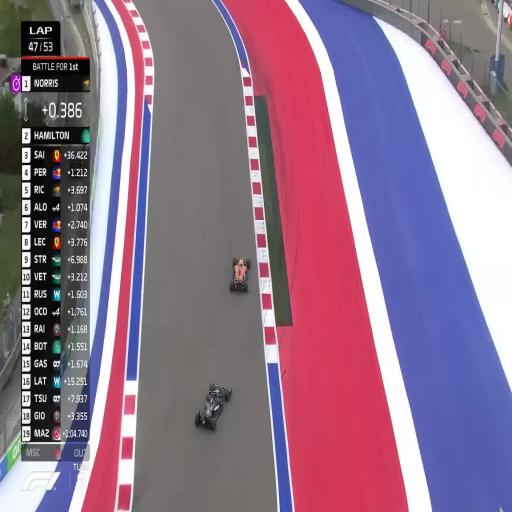f1_car: (195, 383, 231, 430), (230, 257, 250, 291)
